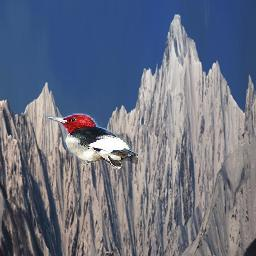Woodpecker: (44, 113, 139, 169)
